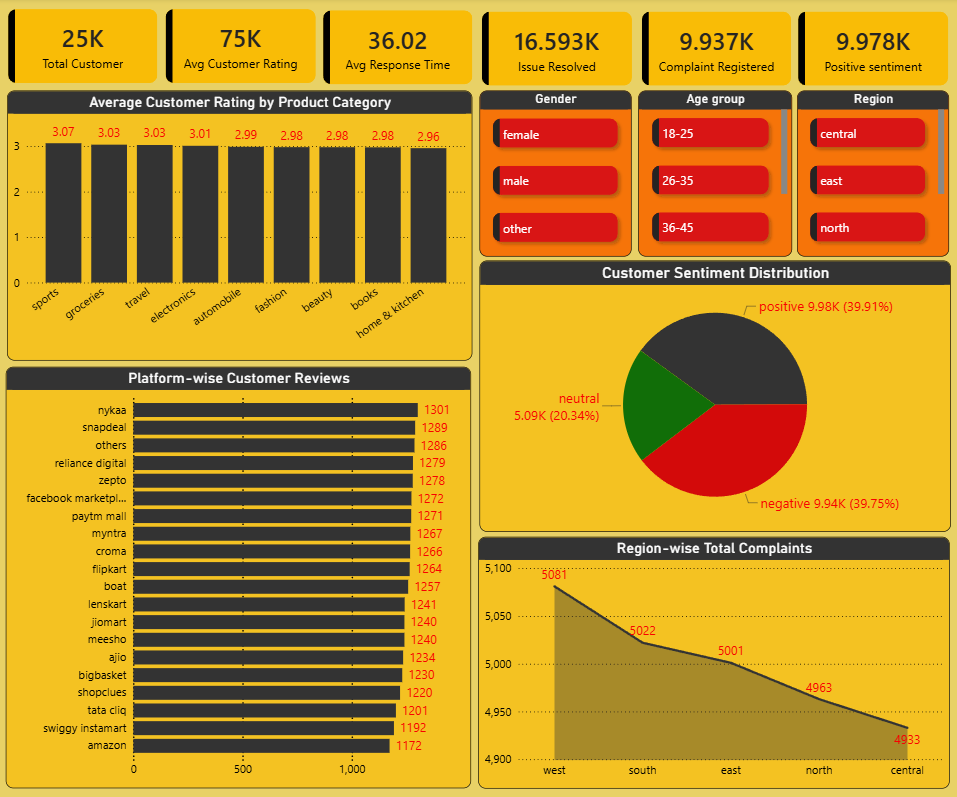

Layout of this report page (visuals, bound fields, positions):
{"tool":"powerbi","page":{"name":"Page 1","canvas":[1280,1100],"ordinal":0},"visuals":[{"type":"cardVisual","fields":{"Data":["CountNonNull(Customer_Sentiment.customer_id)"]},"box":[9.8,9.8,206.6,107.5],"z":0},{"type":"cardVisual","fields":{"Data":["Sum(Customer_Sentiment.customer_rating)"]},"box":[216.3,9.8,208,107.5],"z":1000},{"type":"cardVisual","fields":{"Data":["Avg(Customer_Sentiment.response_time_hours)"]},"box":[424.3,11.2,206.6,107.5],"z":2000},{"type":"cardVisual","fields":{"Data":["CountNonNull(Customer_Sentiment.issue_resolved)"]},"box":[632.3,12.6,208,107.5],"z":3000},{"type":"cardVisual","fields":{"Data":["CountNonNull(Customer_Sentiment.complaint_registered)"]},"box":[843.1,12.6,206.6,107.5],"z":4000},{"type":"cardVisual","fields":{"Data":["CountNonNull(Customer_Sentiment.sentiment)"]},"box":[1049.6,12.6,208,107.5],"z":5000},{"type":"columnChart","title":"Average Customer Rating by Product Category","fields":{"Category":["Customer_Sentiment.product_category"],"Y":["Avg(Customer_Sentiment.customer_rating)"]},"box":[13.6,121,612,354.8],"z":6000},{"type":"clusteredBarChart","title":"Platform-wise Customer Reviews","fields":{"Category":["Customer_Sentiment.platform"],"Y":["CountNonNull(Customer_Sentiment.customer_id)"]},"box":[11.9,485,612,554.4],"z":7000},{"type":"pieChart","title":"Customer Sentiment Distribution","fields":{"Y":["CountNonNull(Customer_Sentiment.customer_id)"],"Category":["Customer_Sentiment.sentiment"]},"box":[634.6,344.6,620,356.5],"z":8000},{"type":"areaChart","title":"Region-wise Total Complaints","fields":{"Category":["Customer_Sentiment.region"],"Y":["CountNonNull(Customer_Sentiment.complaint_registered)"]},"box":[632.9,708,620,331],"z":9000},{"type":"advancedSlicerVisual","fields":{"Values":["Customer_Sentiment.gender"]},"box":[635,121.1,200,218],"z":10000},{"type":"advancedSlicerVisual","fields":{"Values":["Customer_Sentiment.region"]},"box":[1052.6,121.1,200,218],"z":11000},{"type":"advancedSlicerVisual","fields":{"Values":["Customer_Sentiment.age_group"]},"box":[843,121,202,218],"z":12000}]}

Visuals, with their boxes on the page's 1280x1100 design canvas (x1, y1, x2, y2). These are canvas units, not pixel positions in the 957x797 screenshot, which may show the page scaled, cropped or inside an application window:
cardVisual - CountNonNull(Customer_Sentiment.customer_id): box=[10, 10, 216, 117]
cardVisual - Sum(Customer_Sentiment.customer_rating): box=[216, 10, 424, 117]
cardVisual - Avg(Customer_Sentiment.response_time_hours): box=[424, 11, 631, 119]
cardVisual - CountNonNull(Customer_Sentiment.issue_resolved): box=[632, 13, 840, 120]
cardVisual - CountNonNull(Customer_Sentiment.complaint_registered): box=[843, 13, 1050, 120]
cardVisual - CountNonNull(Customer_Sentiment.sentiment): box=[1050, 13, 1258, 120]
"Average Customer Rating by Product Category" columnChart: box=[14, 121, 626, 476]
"Platform-wise Customer Reviews" clusteredBarChart: box=[12, 485, 624, 1039]
"Customer Sentiment Distribution" pieChart: box=[635, 345, 1255, 701]
"Region-wise Total Complaints" areaChart: box=[633, 708, 1253, 1039]
advancedSlicerVisual - Customer_Sentiment.gender: box=[635, 121, 835, 339]
advancedSlicerVisual - Customer_Sentiment.region: box=[1053, 121, 1253, 339]
advancedSlicerVisual - Customer_Sentiment.age_group: box=[843, 121, 1045, 339]
